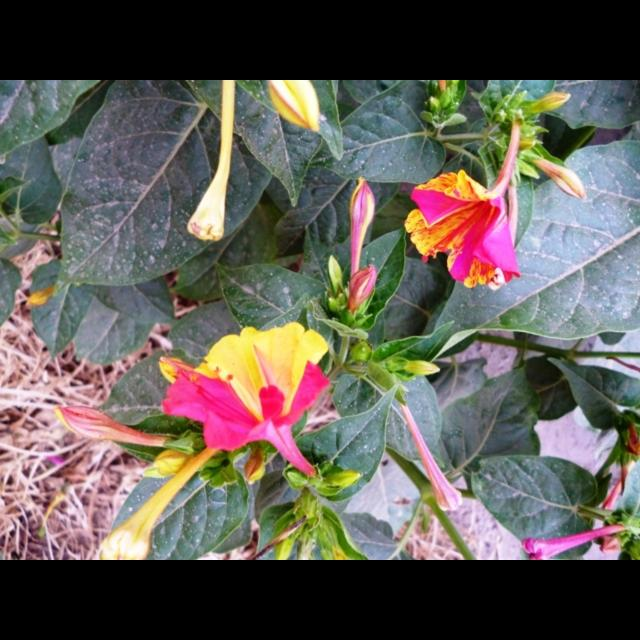Flower: (158, 324, 330, 478), (416, 155, 522, 281), (398, 404, 468, 512), (56, 404, 170, 446), (520, 520, 622, 560), (264, 80, 320, 134), (346, 180, 376, 278), (534, 156, 584, 200), (346, 266, 376, 310)
